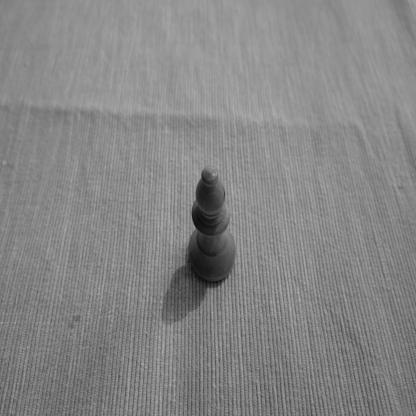white-bishop: (187, 166, 236, 286)
